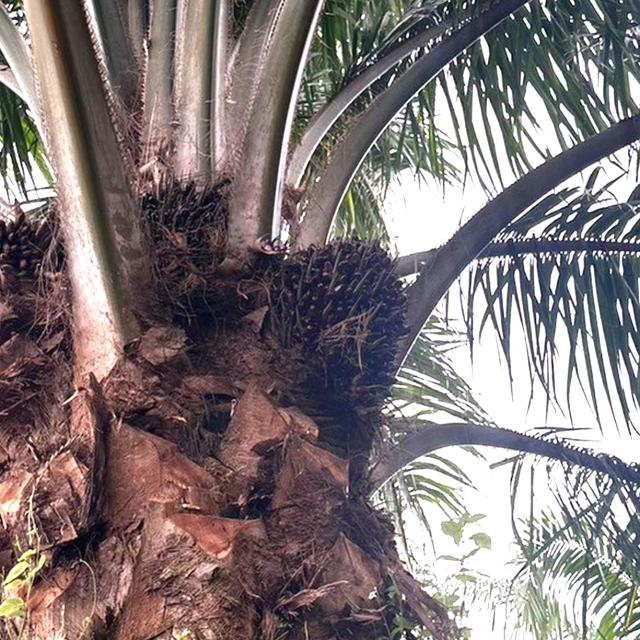ripe: (246, 213, 428, 425)
